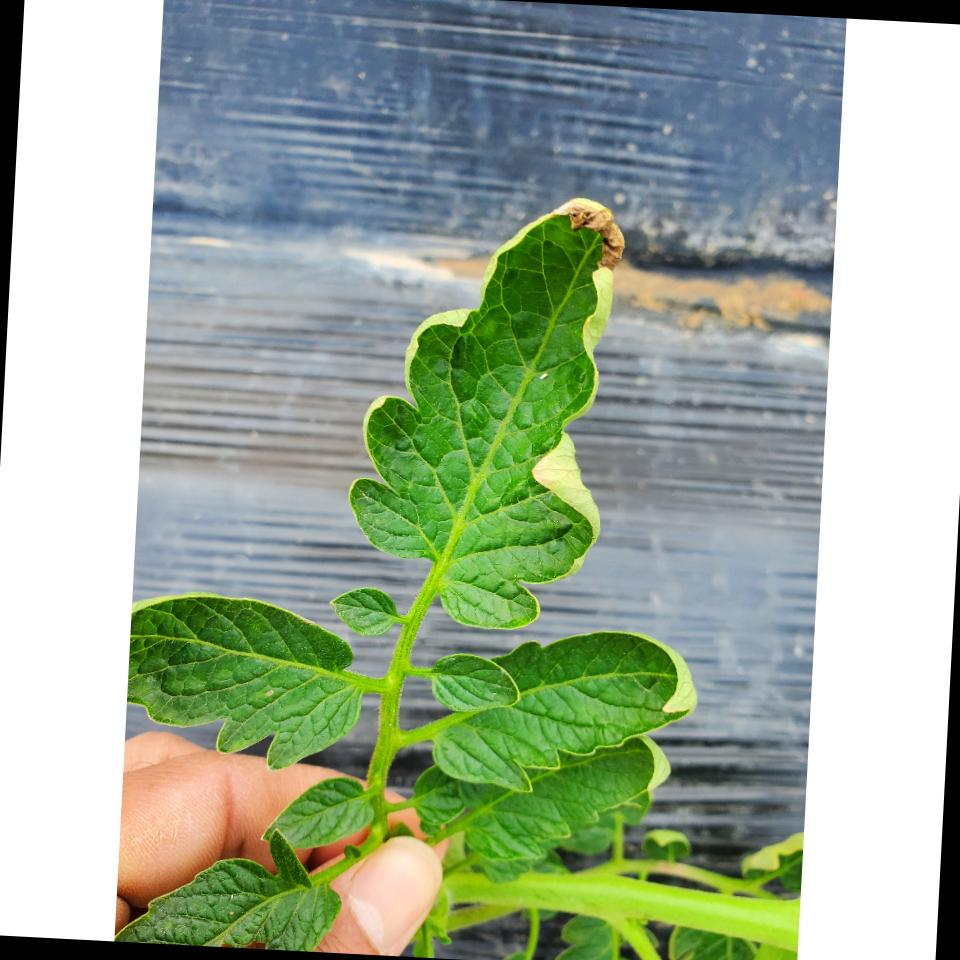tomato_yellow_leaf_curl_virus: (336, 172, 626, 632), (428, 620, 706, 800), (124, 586, 366, 766)
